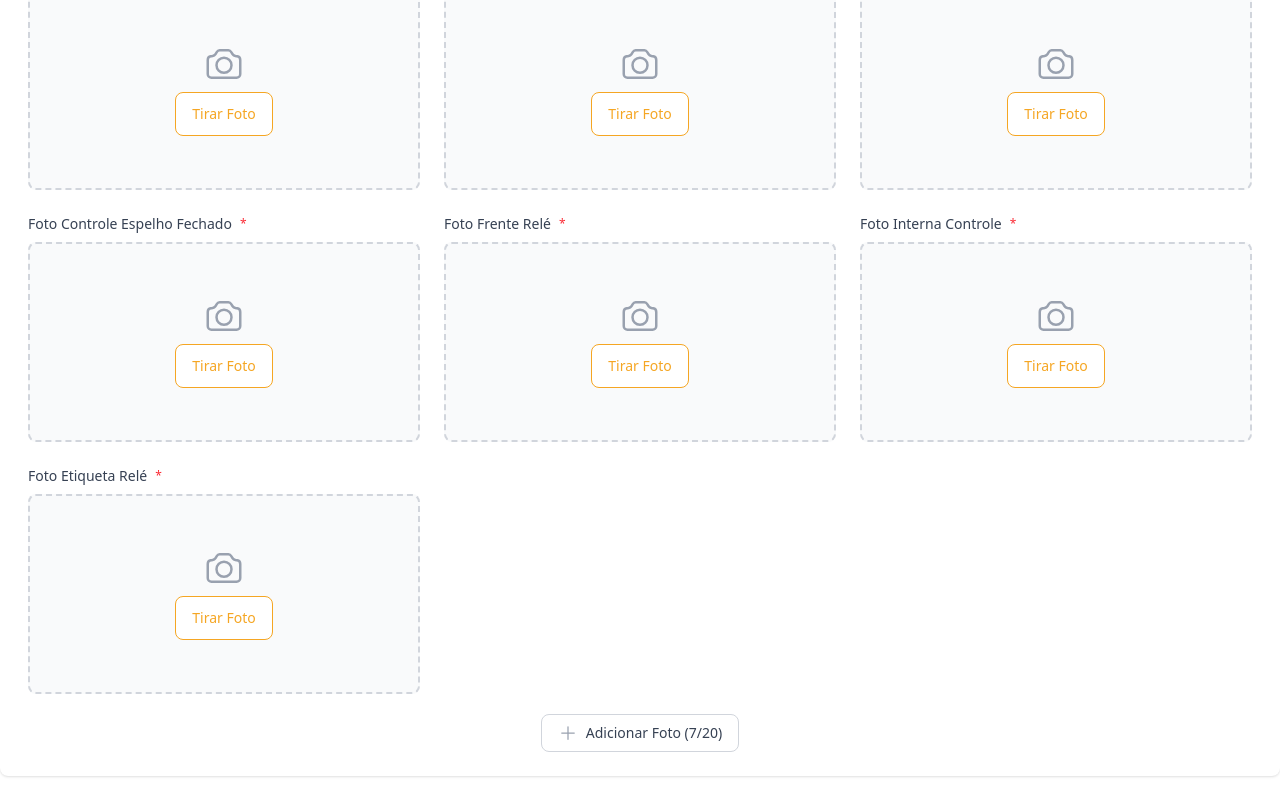
Test case: PhotoSection - Dynamic photos (RF-08) › removes a dynamic slot when clicking remove
(page scrolled)
Click the button with test id "add-photo-btn" at (640, 733), box [541,714,739,752]
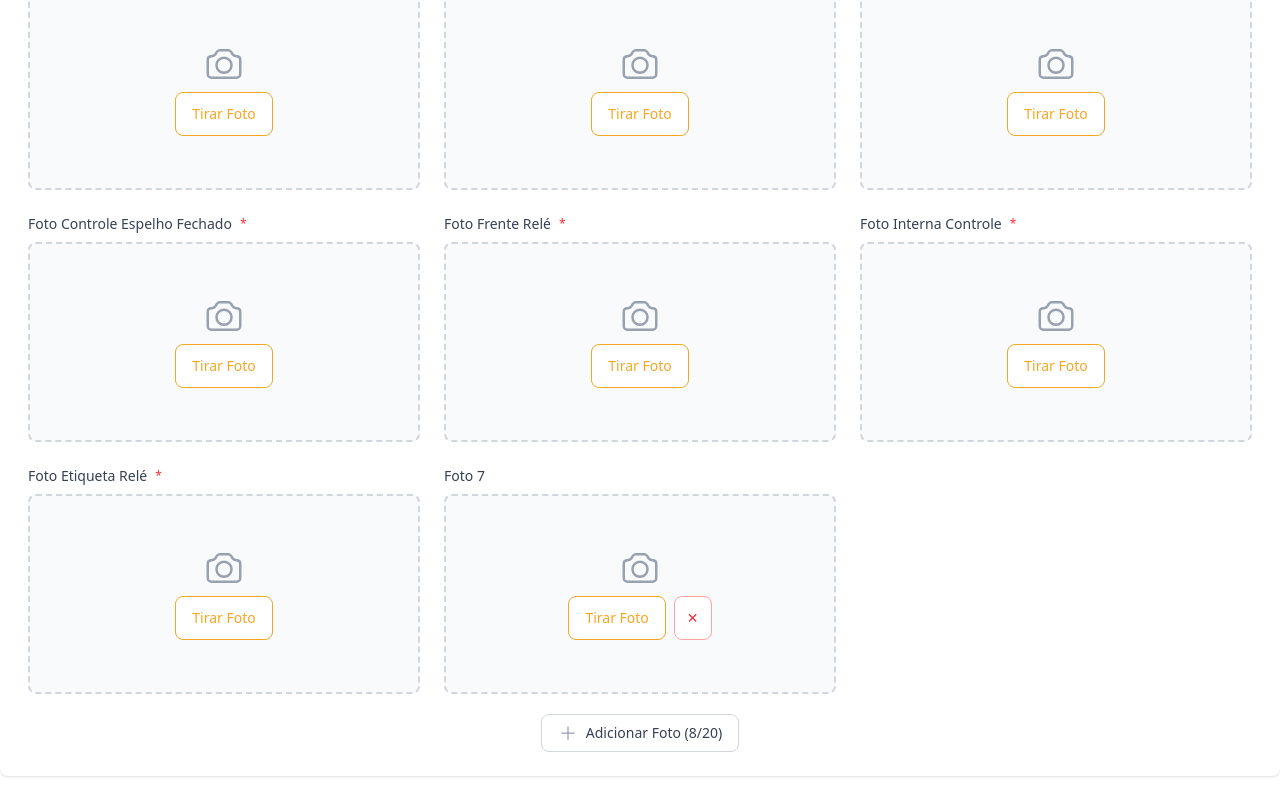
Now the text "Foto 7" is shown, box [444,466,485,486]
Click the button with test id "remove-slot-photo_7" at (693, 618), box [674,596,712,640]
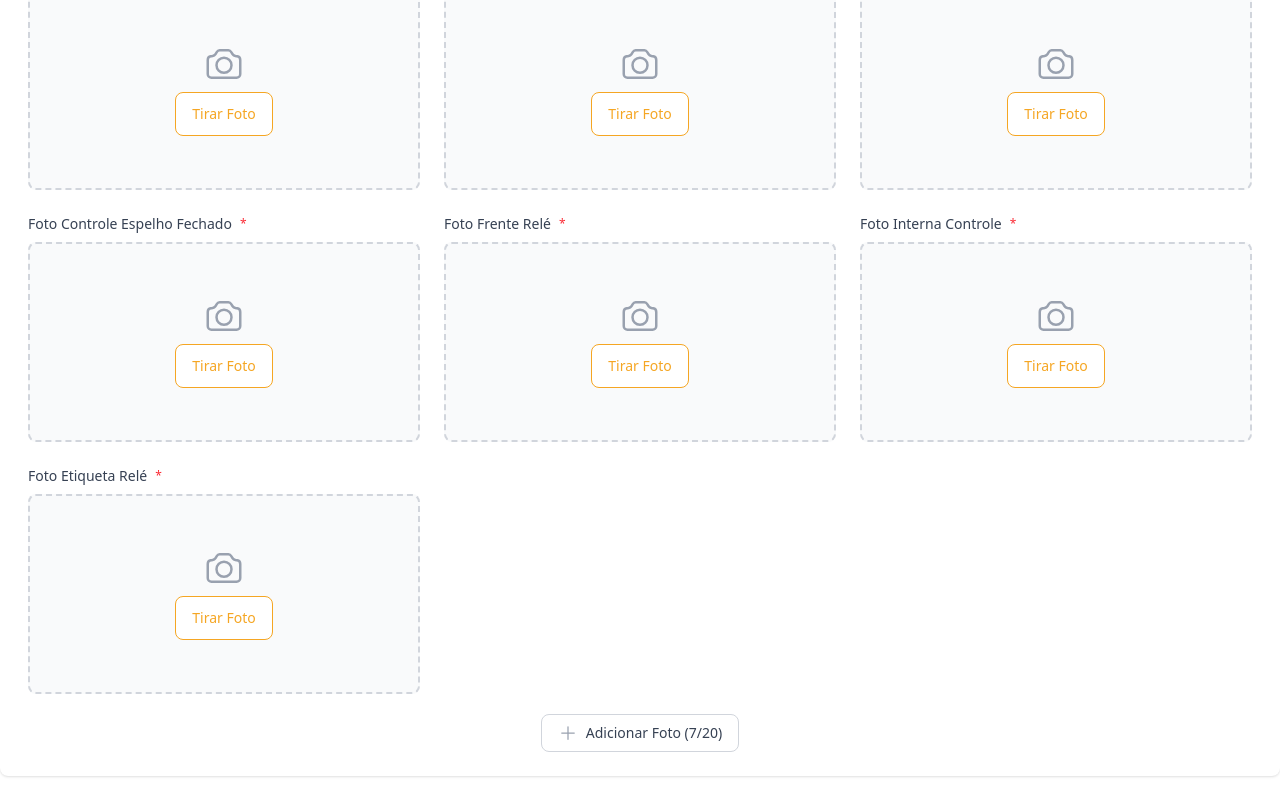
Now the text "Foto 7" is gone
